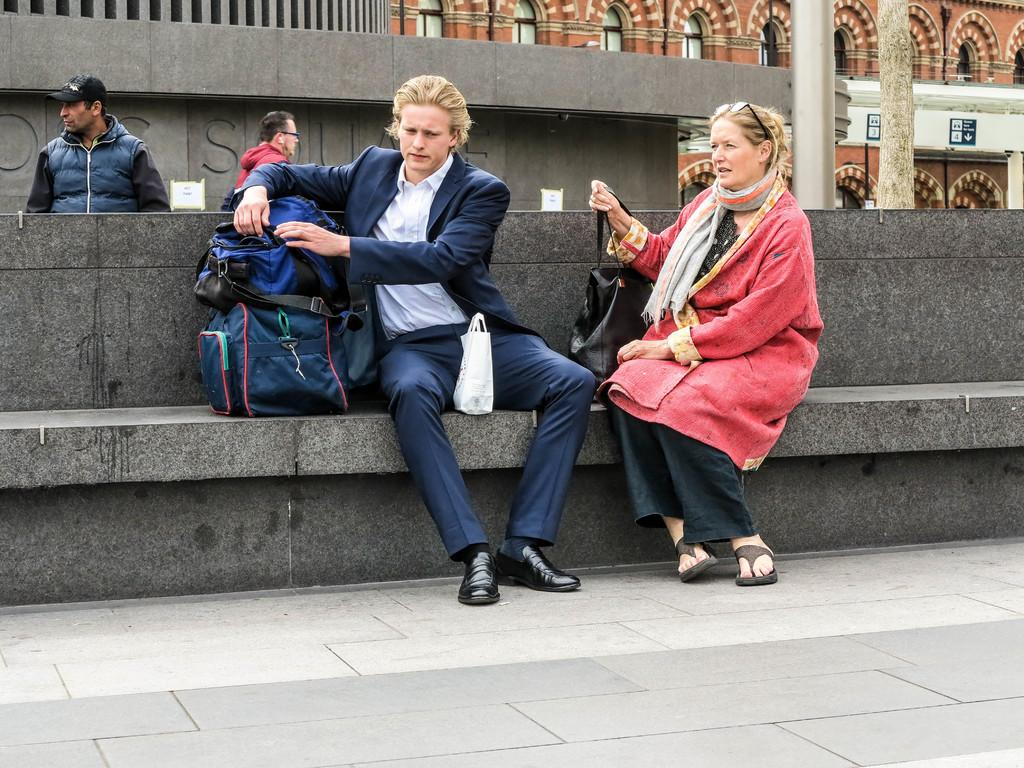Luggage-and-bags: (214, 179, 376, 415), (563, 188, 662, 392)
